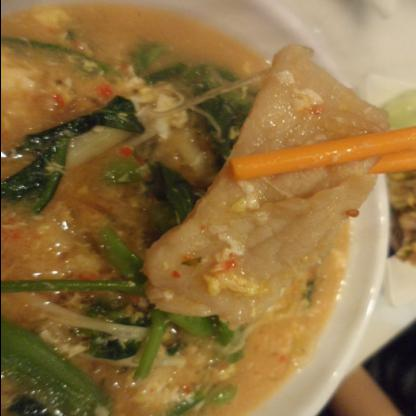Suki: (11, 8, 383, 416)
